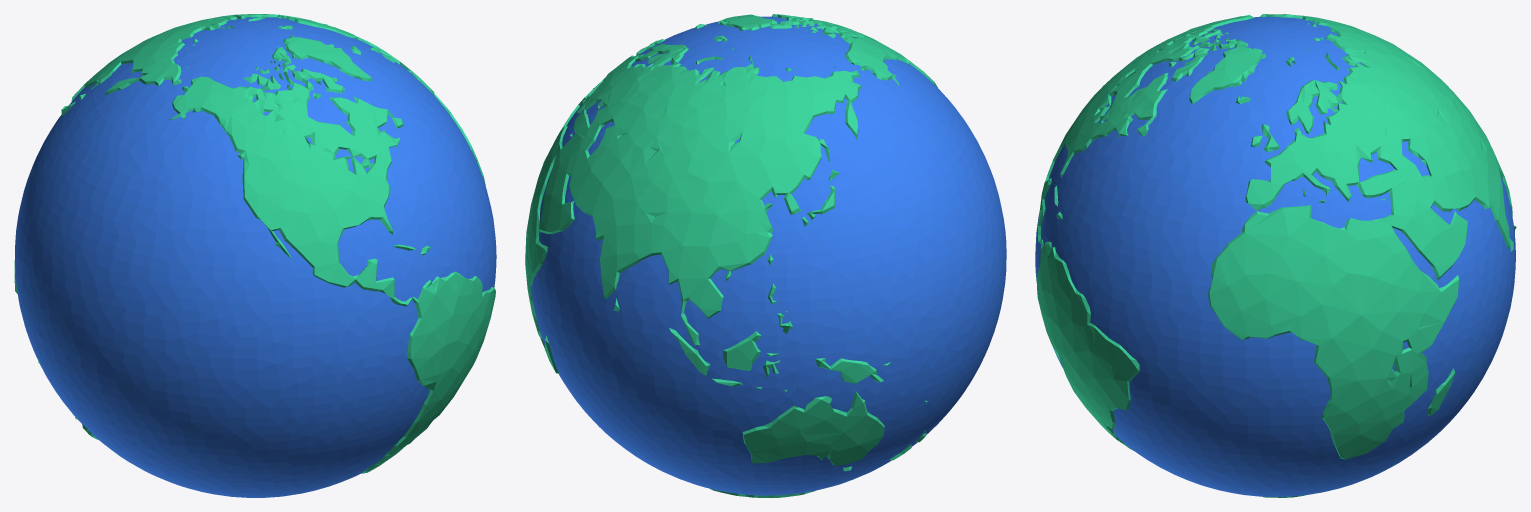
Rendered from earth.glb.
3 renders of one model, left to right at view 1: azimuth 30°, elevation 25°; view 2: azimuth 150°, elevation 25°; view 3: azimuth 270°, elevation 25°, orthographic.
Visible parts, largest first — view 1: Earth; view 2: Earth; view 3: Earth.
Boxes of the visible parts, x1=… form: Earth: x1=14, y1=14, x2=496, y2=497; Earth: x1=525, y1=14, x2=1006, y2=497; Earth: x1=1035, y1=14, x2=1516, y2=497.
Size of the model in its own units: 2 by 2.01 by 2.
